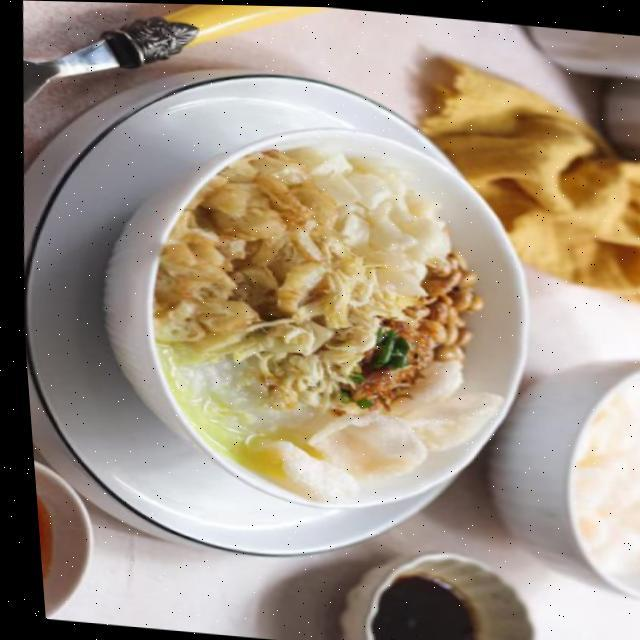bubur ayam: (121, 132, 493, 500)
mangkuk: (72, 104, 559, 528), (469, 342, 640, 604), (328, 540, 542, 640), (34, 457, 105, 622)
